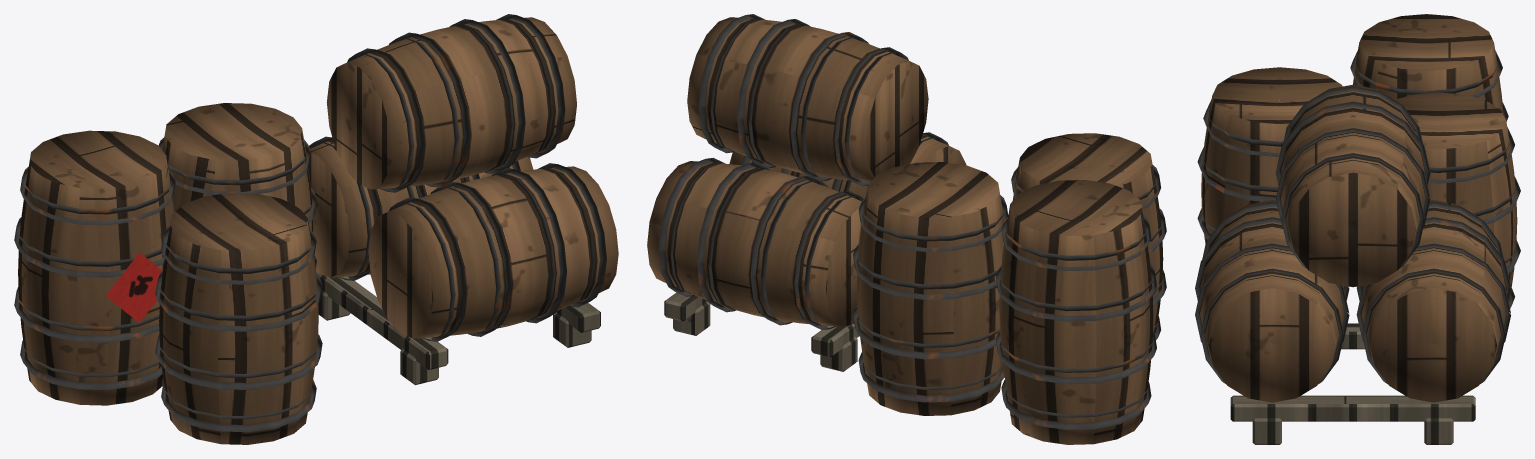
The model's file is barrel_stack.glb.
The picture shows the model from 3 angles, left to right: view 1: azimuth 30°, elevation 25°; view 2: azimuth 150°, elevation 25°; view 3: azimuth 270°, elevation 25°; orthographic projection. The views are drawn at different scales.
Visible parts, largest first — view 1: Barrels, BarrelHoops, Cradle, BarrelLabels; view 2: Barrels, BarrelHoops, Cradle; view 3: Barrels, BarrelHoops, Cradle.
Part boxes in pixels (x1,y1,x2,y2): Barrels: (18, 17, 618, 444); BarrelHoops: (14, 14, 606, 432); Cradle: (316, 271, 600, 385); BarrelLabels: (106, 252, 162, 322); Barrels: (647, 17, 1163, 444); BarrelHoops: (658, 14, 1166, 429); Cradle: (664, 292, 858, 371); Barrels: (1199, 14, 1517, 402); BarrelHoops: (1195, 50, 1520, 384); Cradle: (1230, 323, 1475, 444).
Size of what is drawn, in the model's own units: 2.21 by 1.3 by 1.33.
4 materials, 4 textured.
